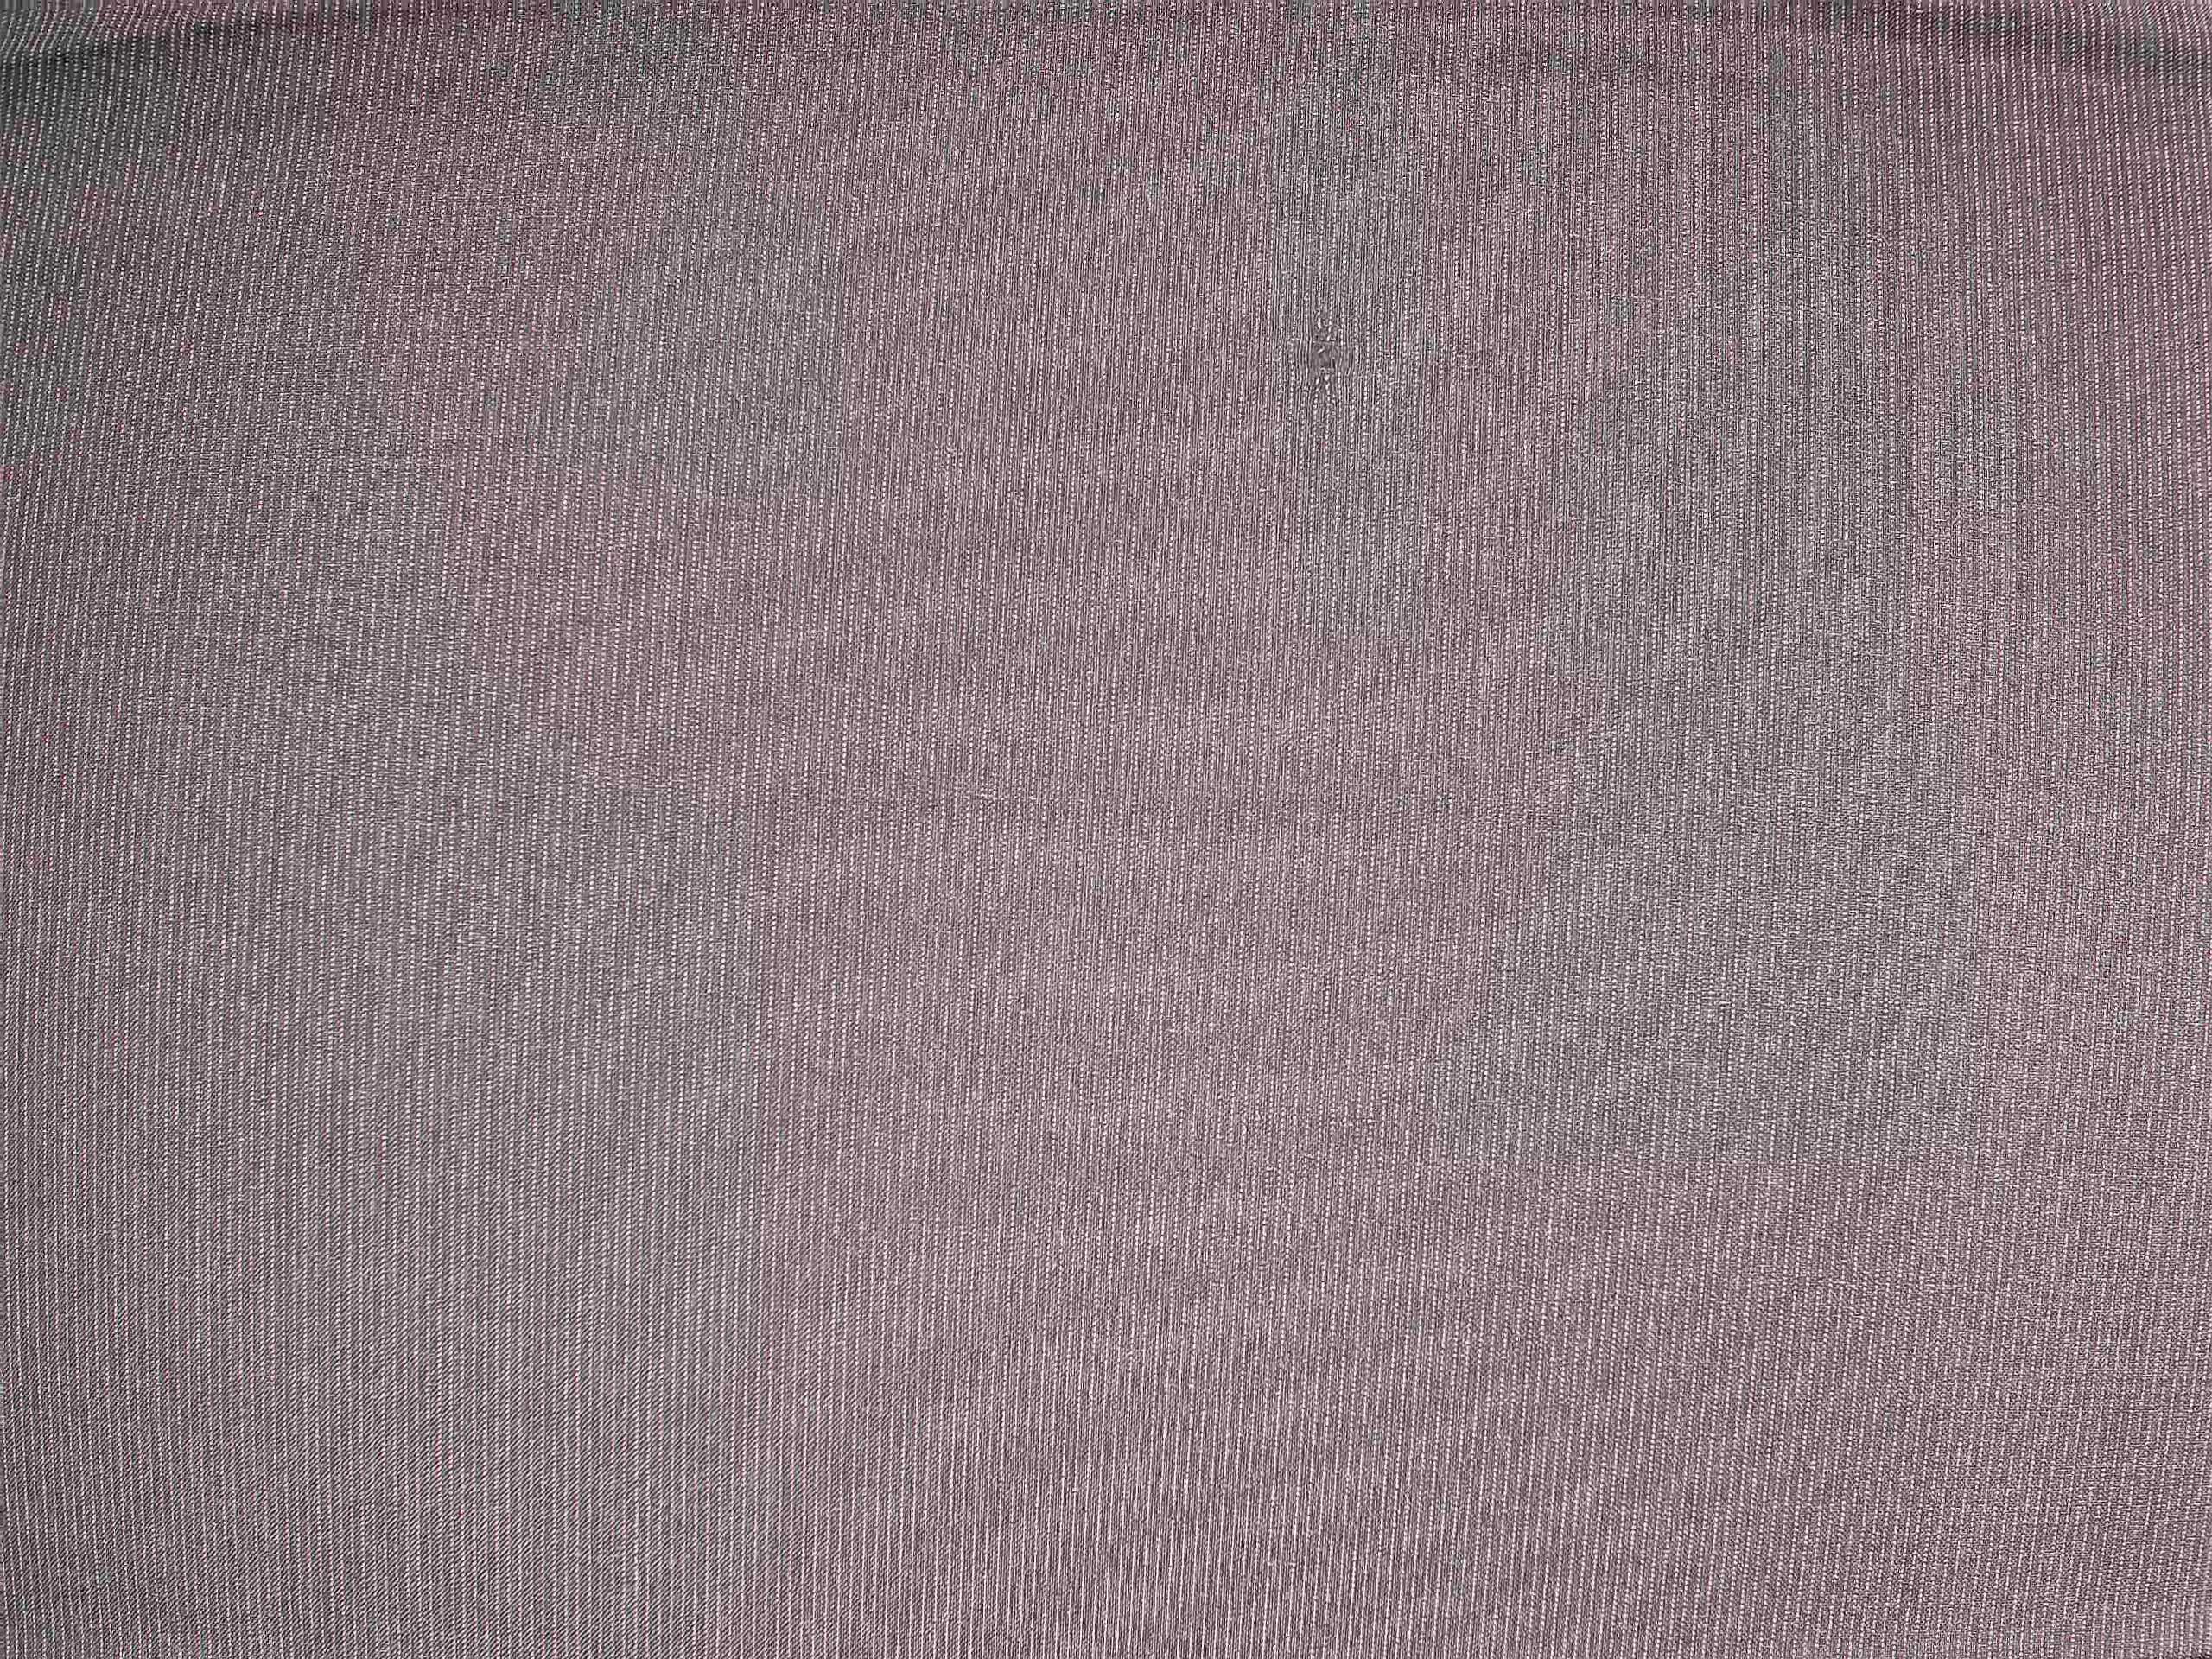rubbing-hole: (1289, 307, 1364, 390)
